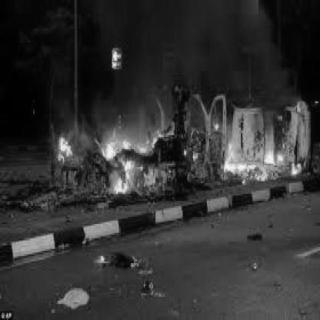Fire: (34, 76, 312, 202)
